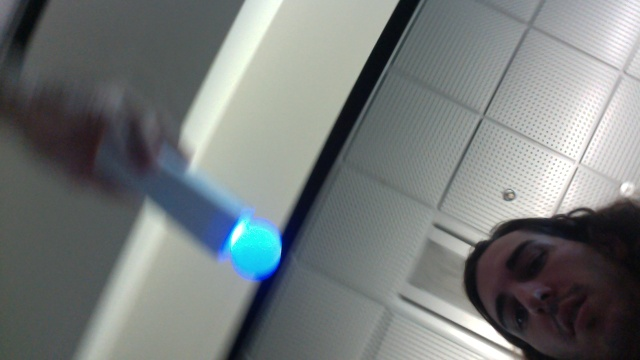wand: (231, 219, 282, 278)
